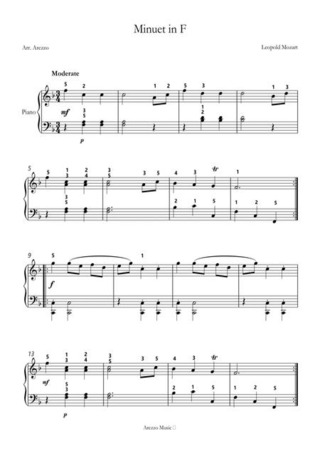Partitura: (14, 21, 307, 435)
